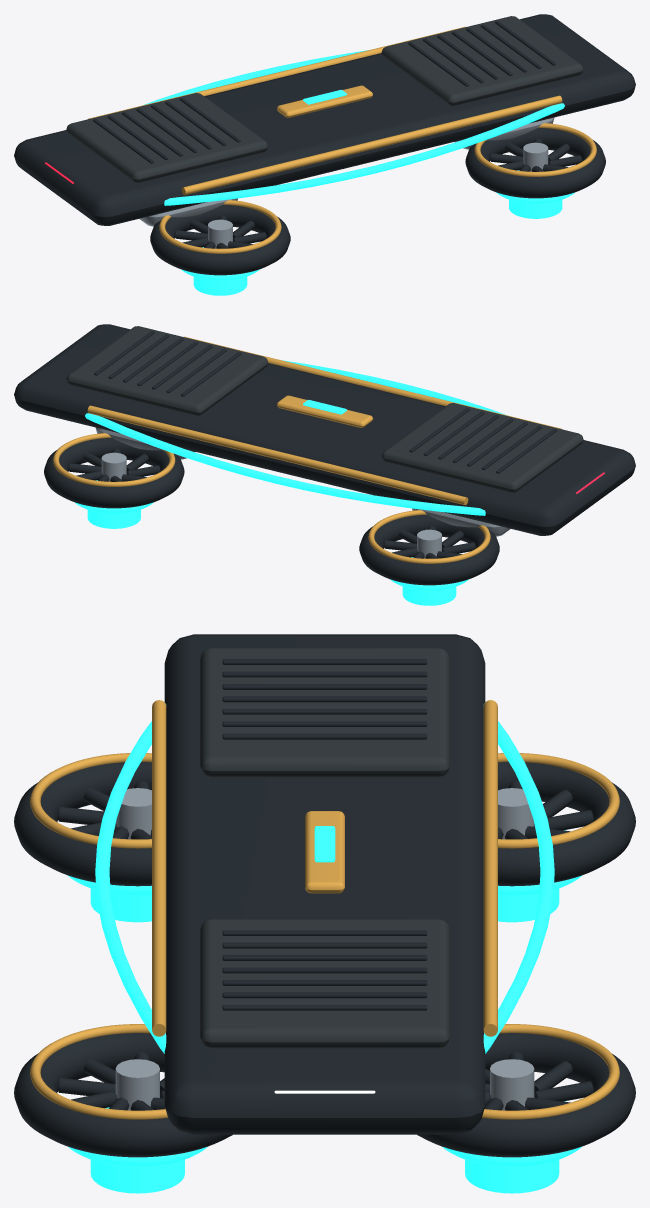
Rendered from skyboard-v1.glb.
The picture shows the model from 3 angles, top to bottom: view 1: azimuth 30°, elevation 25°; view 2: azimuth 150°, elevation 25°; view 3: azimuth 270°, elevation 25°; orthographic projection. The views are drawn at different scales.
Parts seen in each view (by area): view 1: sky__core__always_Carbon, sky__core__always_Deck grip, sky__core__always_Gold trim, sky__core__always_Ion cyan, sky__core__always_Titanium; view 2: sky__core__always_Carbon, sky__core__always_Deck grip, sky__core__always_Gold trim, sky__core__always_Ion cyan, sky__core__always_Titanium; view 3: sky__core__always_Carbon, sky__core__always_Deck grip, sky__core__always_Gold trim, sky__core__always_Ion cyan, sky__core__always_Titanium.
Boxes of the visible parts, x1,y1,x2,y2 form: sky__core__always_Carbon: (14, 14, 635, 275); sky__core__always_Deck grip: (66, 16, 583, 182); sky__core__always_Gold trim: (88, 26, 596, 253); sky__core__always_Ion cyan: (143, 50, 574, 295); sky__core__always_Titanium: (139, 117, 554, 248); sky__core__always_Carbon: (14, 324, 635, 585); sky__core__always_Deck grip: (66, 326, 583, 492); sky__core__always_Gold trim: (53, 336, 561, 563); sky__core__always_Ion cyan: (75, 360, 506, 605); sky__core__always_Titanium: (95, 427, 510, 558); sky__core__always_Carbon: (14, 634, 635, 1157); sky__core__always_Deck grip: (200, 648, 449, 1048); sky__core__always_Gold trim: (30, 700, 619, 1119); sky__core__always_Ion cyan: (68, 703, 581, 1193); sky__core__always_Titanium: (115, 788, 534, 1110).
Size of the model in its own units: 1.24 by 0.2535 by 0.698.
